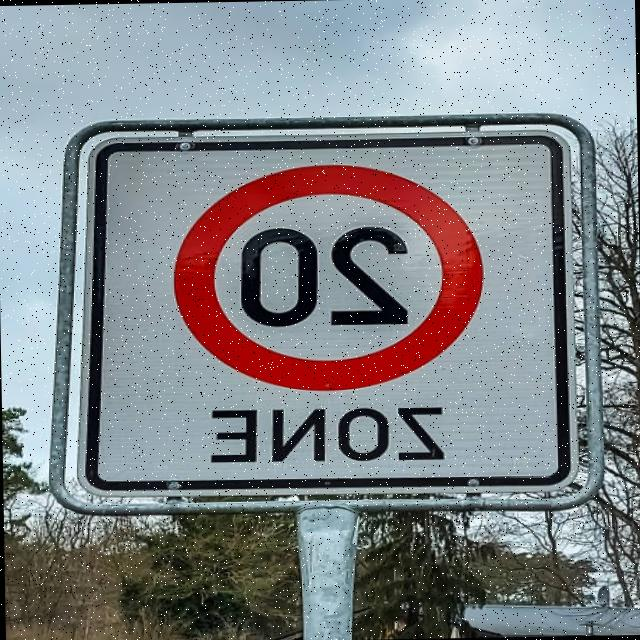speed_limit_20: (168, 159, 490, 396)
